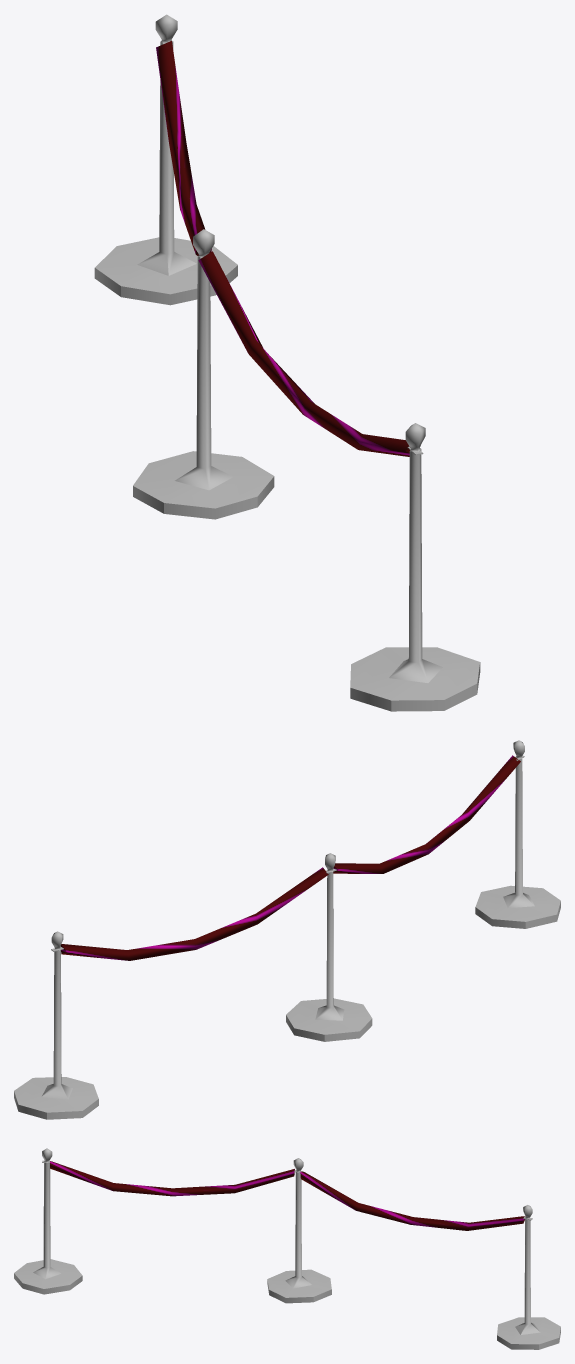
The model's file is Launch_Building_Coon_Barrier_Art.fbx.
The picture shows the model from 3 angles, top to bottom: view 1: azimuth 30°, elevation 25°; view 2: azimuth 150°, elevation 25°; view 3: azimuth 270°, elevation 25°; orthographic projection. The views are drawn at different scales.
Visible parts, largest first — view 1: Launch_Building_Coon_Barrier_1; view 2: Launch_Building_Coon_Barrier_1; view 3: Launch_Building_Coon_Barrier_1.
Boxes of the visible parts, box(x1,y1,x2,y2) form: Launch_Building_Coon_Barrier_1: box(94, 14, 480, 711); Launch_Building_Coon_Barrier_1: box(14, 740, 560, 1119); Launch_Building_Coon_Barrier_1: box(14, 1148, 560, 1349).
Size of the model in its own units: 188 by 135 by 509.
